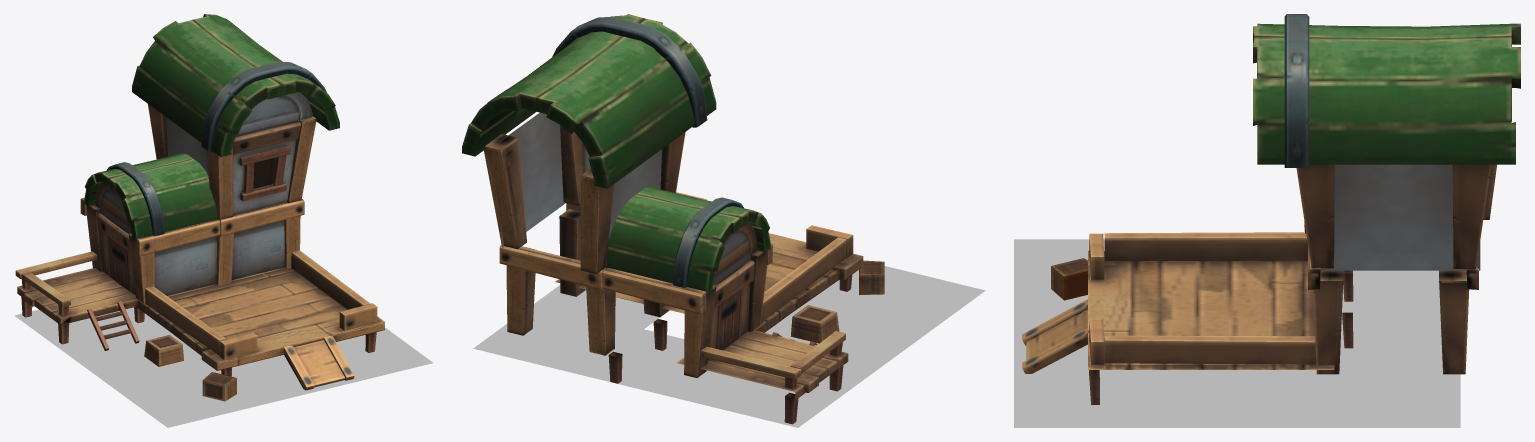
Rendered from C_StorageHouse_LV1.fbx.
3 views of the same model, side by side, from view 1: azimuth 30°, elevation 25°; view 2: azimuth 150°, elevation 25°; view 3: azimuth 270°, elevation 25° (orthographic). The views are drawn at different scales.
Parts seen in each view (by area): view 1: Storage_house_LV01_0_mesh, Storage_house_LV01_1_mesh; view 2: Storage_house_LV01_0_mesh, Storage_house_LV01_1_mesh; view 3: Storage_house_LV01_0_mesh, Storage_house_LV01_1_mesh.
Part boxes in pixels (x1,y1,x2,y2): Storage_house_LV01_0_mesh: (15, 14, 384, 401); Storage_house_LV01_1_mesh: (14, 307, 432, 427); Storage_house_LV01_0_mesh: (462, 14, 884, 424); Storage_house_LV01_1_mesh: (473, 266, 985, 427); Storage_house_LV01_0_mesh: (1022, 14, 1520, 404); Storage_house_LV01_1_mesh: (1014, 239, 1460, 427).
Size of the model in its own units: 120 by 105 by 136.
